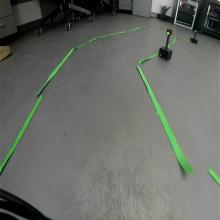green: (166, 28, 173, 36)
